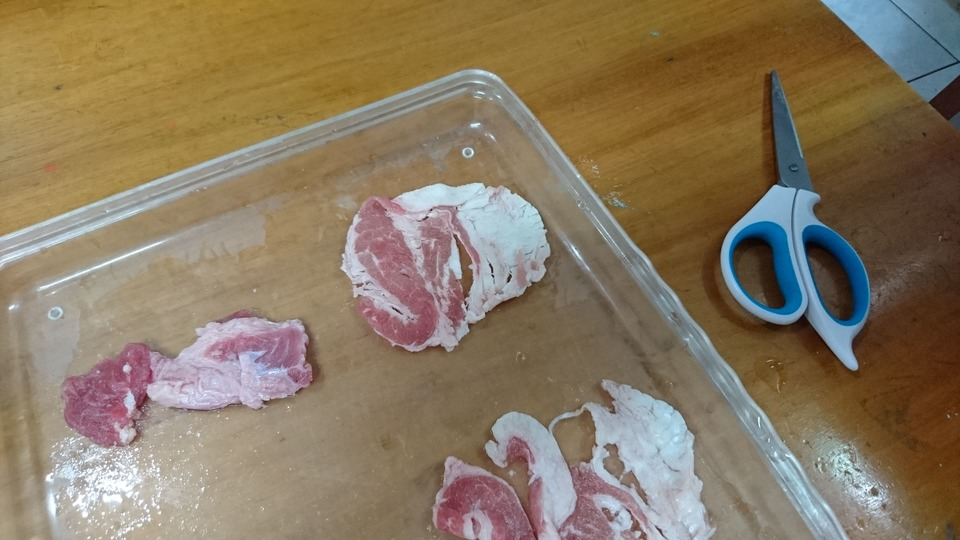restructured meat: (432, 380, 712, 540), (343, 180, 560, 355), (57, 306, 310, 446)
